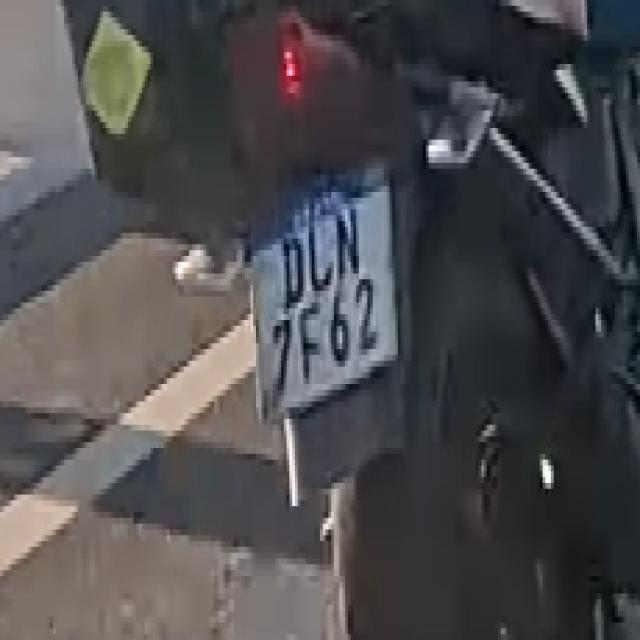Placa_mercosul_carro: (249, 151, 404, 430)
